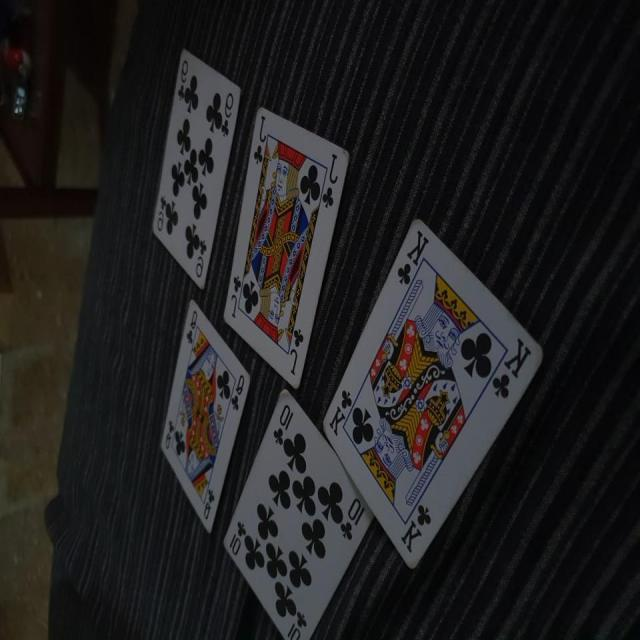10 of clubs: (220, 383, 374, 639)
9 of clubs: (150, 48, 243, 291)
jack of clubs: (222, 107, 352, 390)
king of clubs: (322, 216, 546, 574)
queen of clubs: (160, 302, 252, 532)
